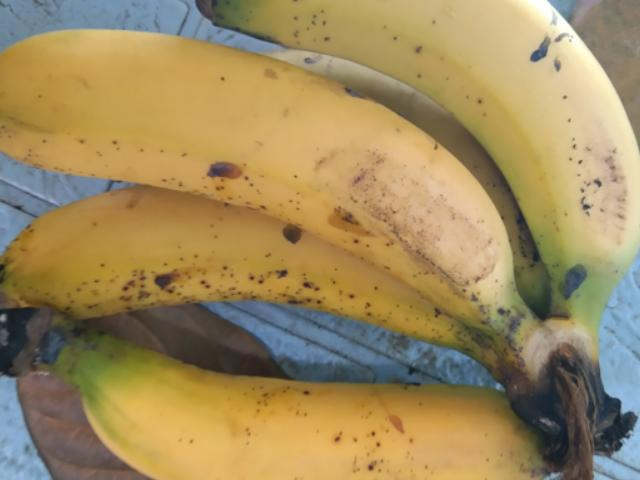ripe: (0, 28, 540, 325), (188, 2, 639, 307), (8, 160, 514, 375), (77, 342, 590, 479)
